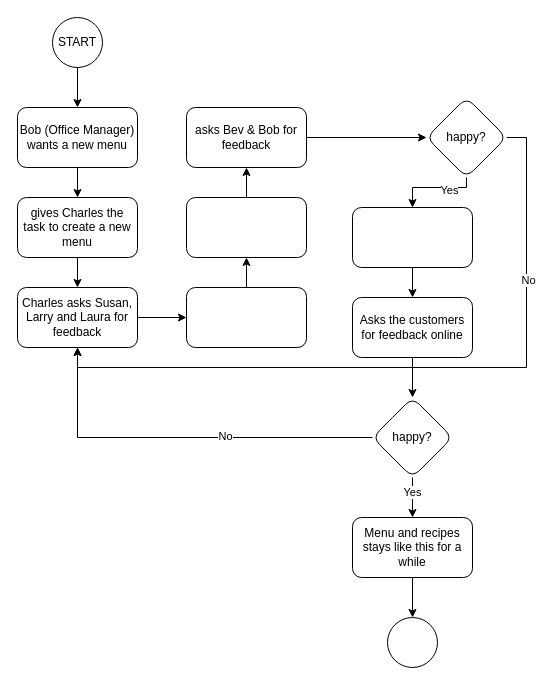
Some shapes in this 552 by 685 pixel diagram are drawn without their labels. The centre of each missing label's shape, as x and y in pixels:
"adjusts menu and recipes" belongs at point (246, 227).
"asks the Servers what is ordered the most" belongs at point (246, 317).
"END" belongs at point (412, 642).
"set the new menu and recipes" belongs at point (412, 237).
